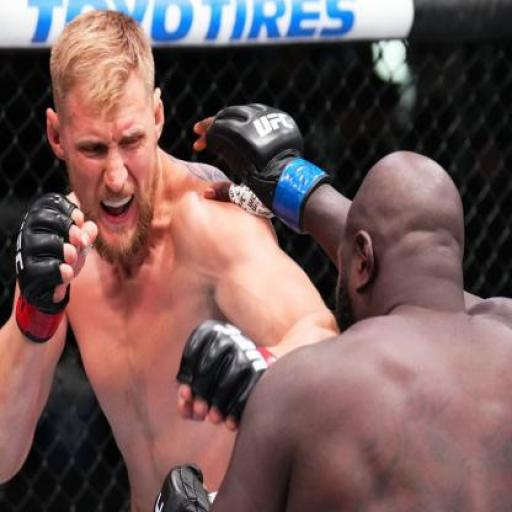Fighting: (5, 11, 511, 512)
